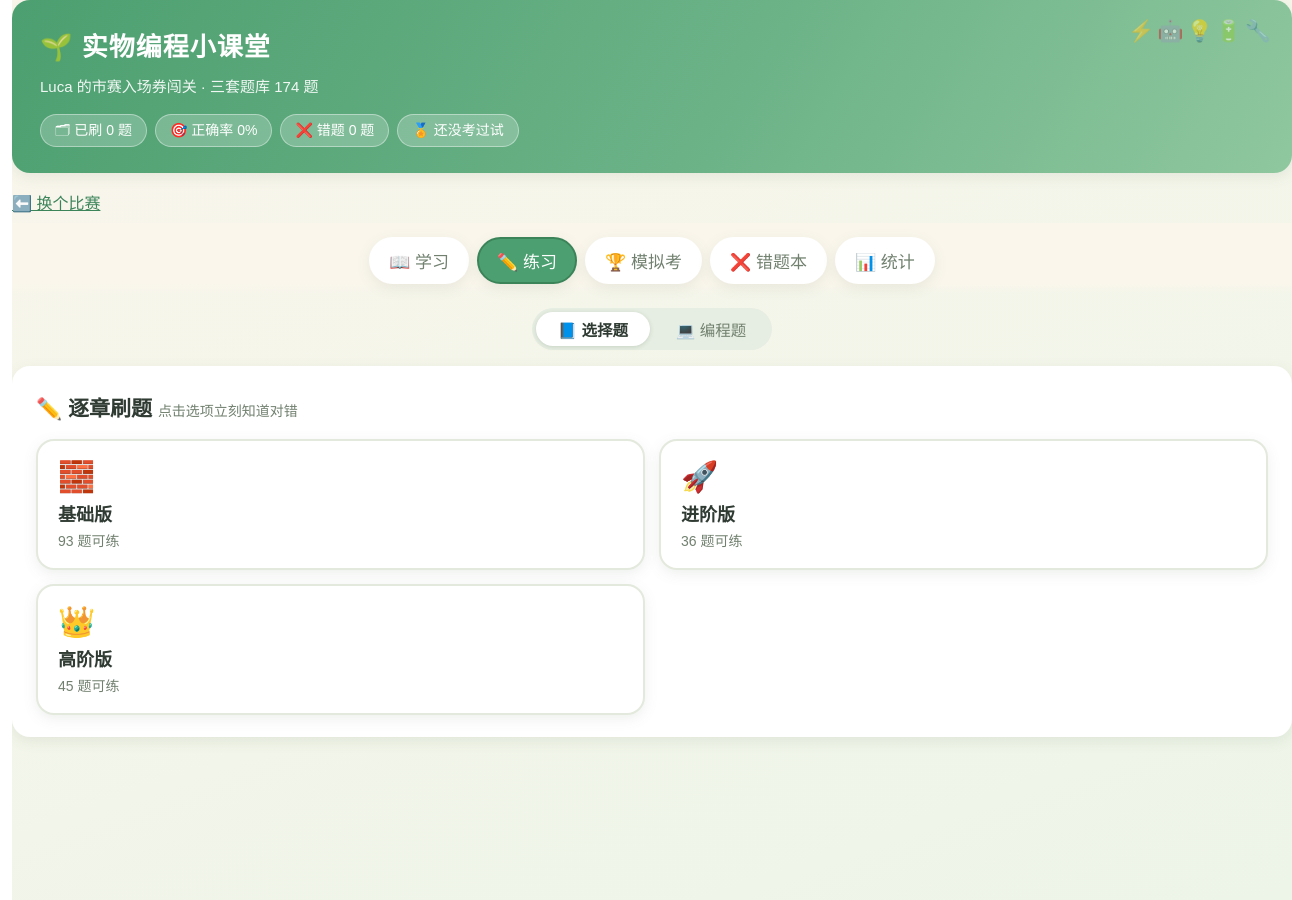
Test: AI 编程题子模块（挂在各 tab 下） › 练习页：计时→超 10 分钟→完成进错题本
What coordinates should you click on to do the following:
click the tab "💻 编程题"
I would click on:
 (711, 329)
Its box is [654, 312, 768, 346].
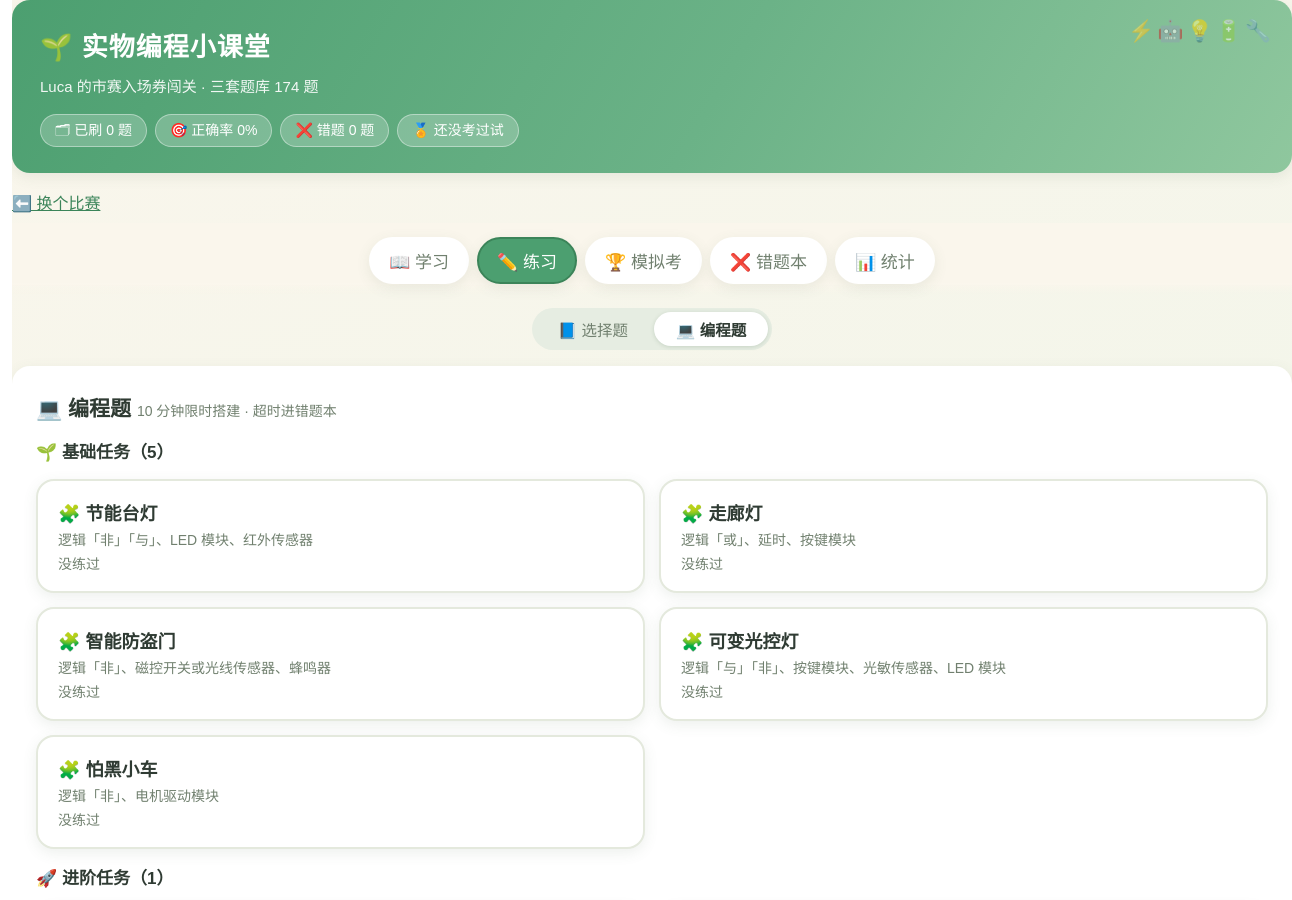
Expected: the tab "📘 选择题" is shown, [536, 312, 650, 346]
What coordinates should you click on to do the following:
click the button "🧩 节能台灯 逻辑「非」「与」、LED 模块、红外传感器 没练过"
I would click on:
 (121, 514)
Its box is [36, 479, 645, 593].
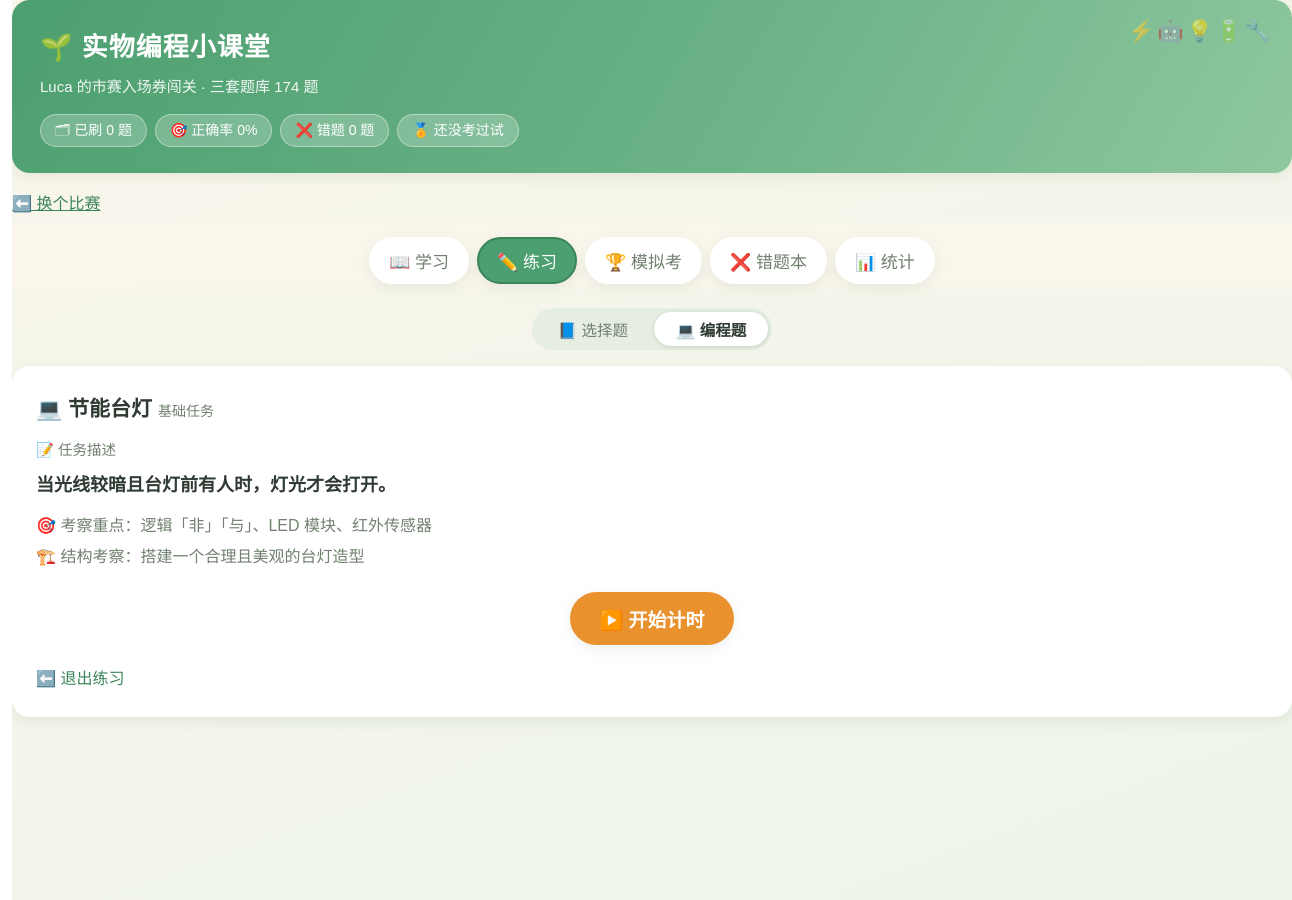
What coordinates should you click on to do the following:
click the button "▶️ 开始计时"
I would click on:
 (652, 619)
Its box is [570, 592, 734, 645].
Wait 601000 ms
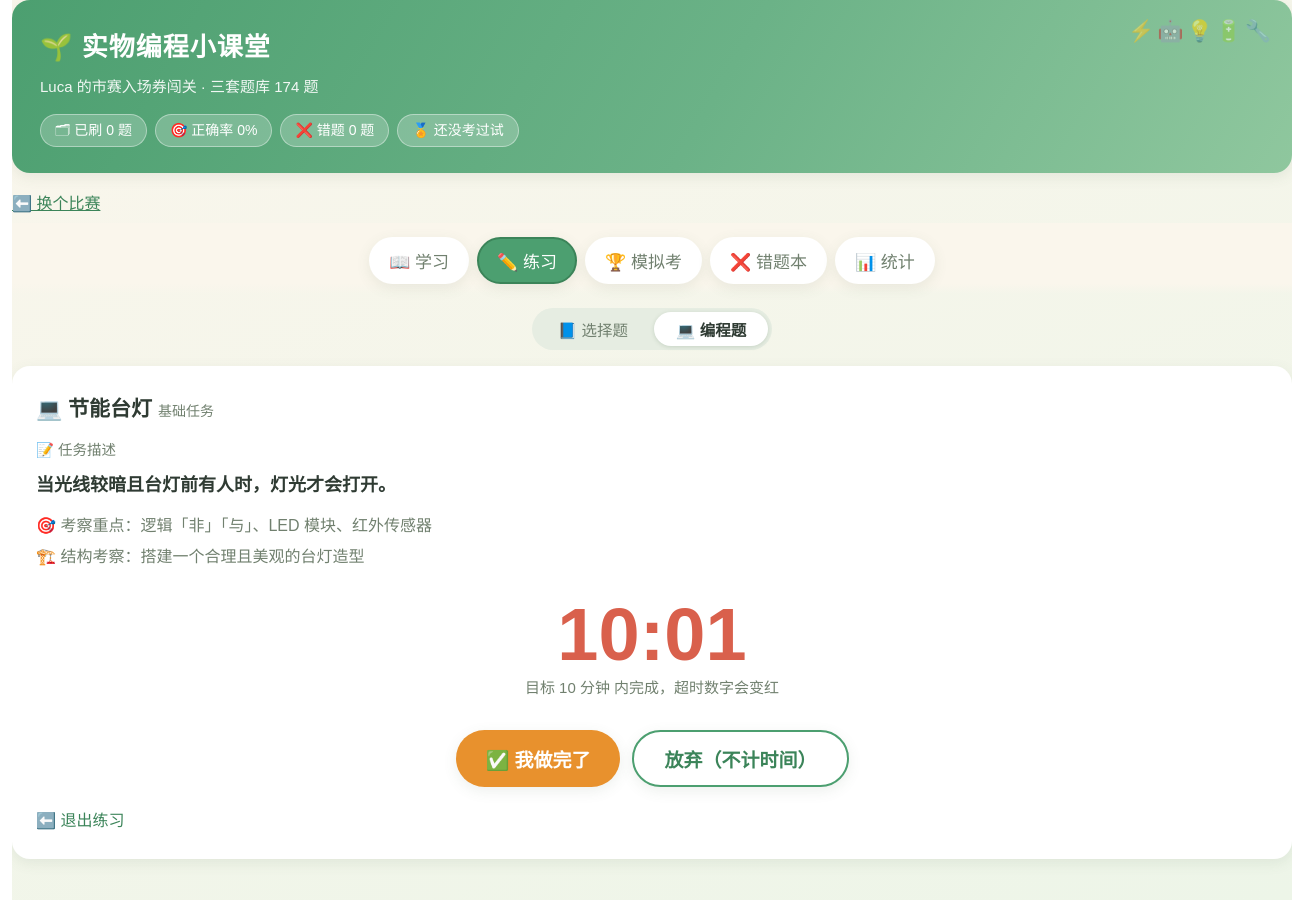
What coordinates should you click on to do the following:
click the button "✅ 我做完了"
I would click on:
 (538, 759)
Its box is [456, 730, 620, 787].
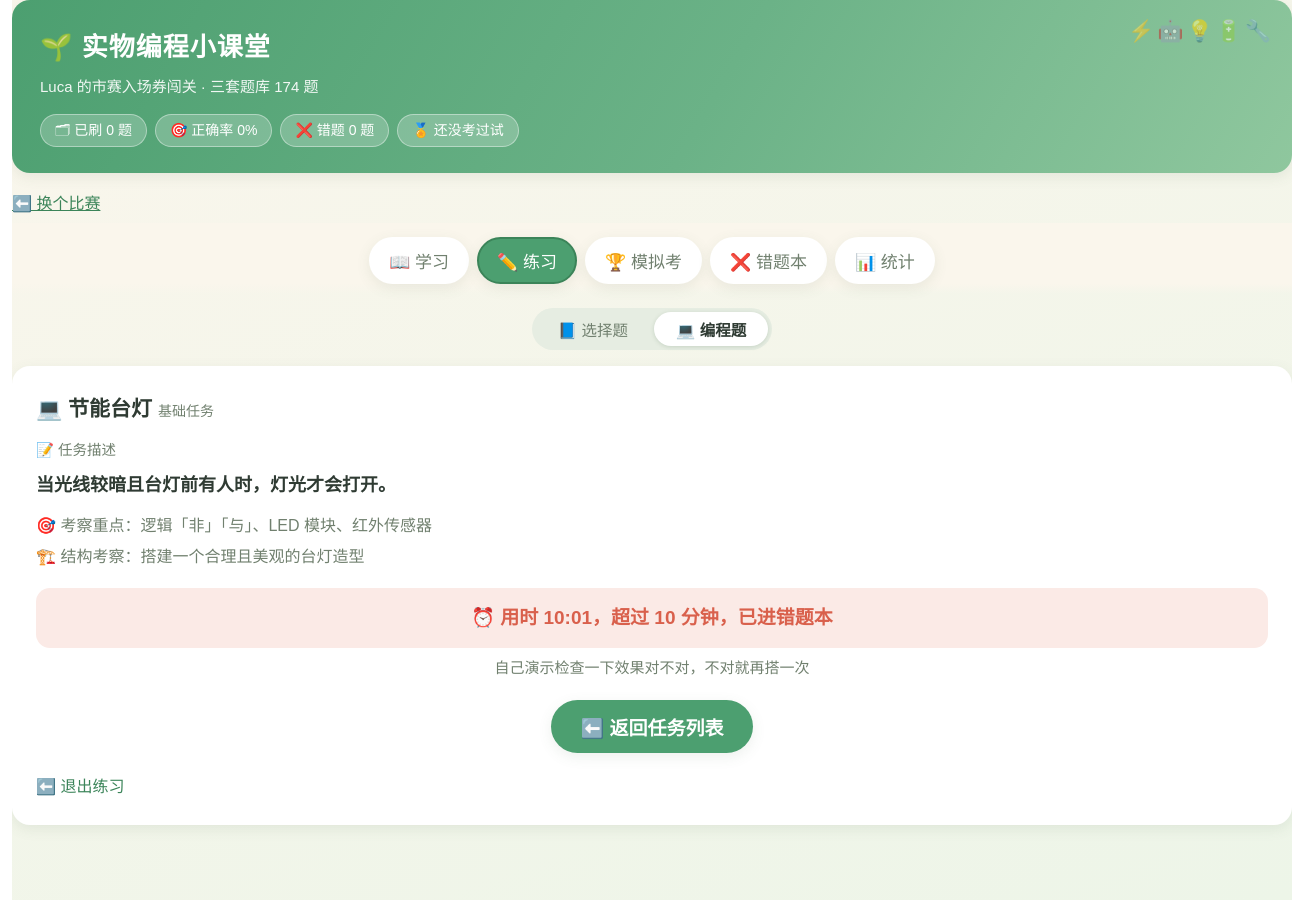
Expected: the text "⏰ 用时 10:01，超过 10 分钟，已进错题本" is shown, [36, 588, 1268, 648]
